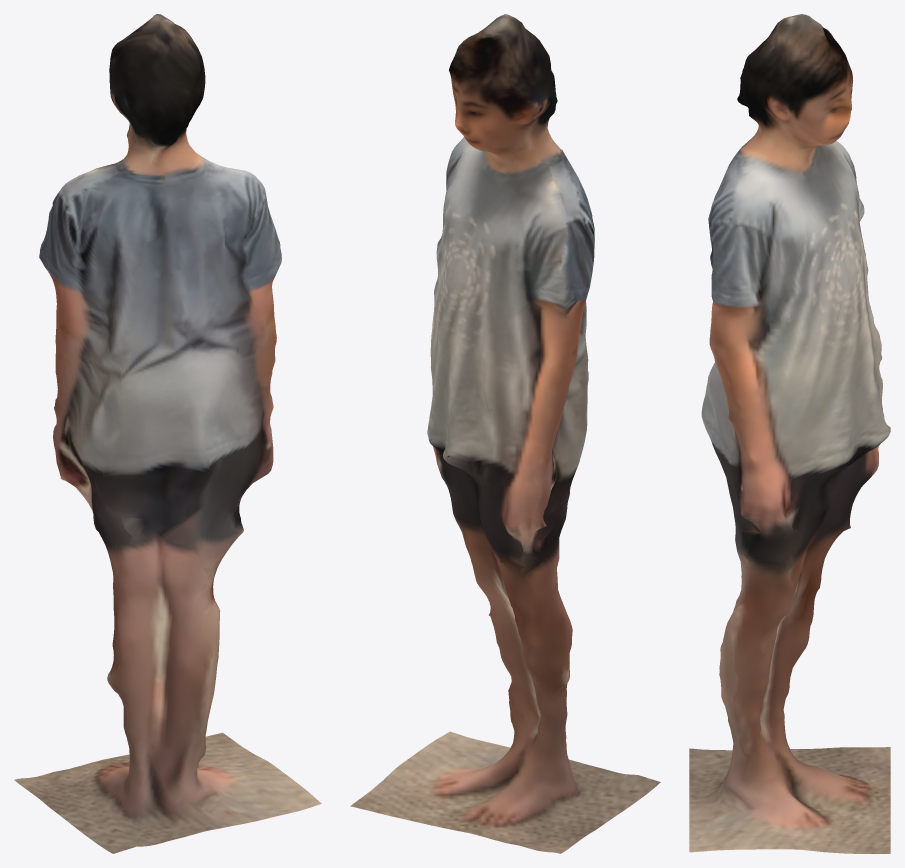
The model's file is nonkus.glb.
3 views of the same model, side by side, from view 1: azimuth 30°, elevation 25°; view 2: azimuth 150°, elevation 25°; view 3: azimuth 270°, elevation 25° (orthographic).
Visible parts, largest first — view 1: Object_2; view 2: Object_2; view 3: Object_2.
Part boxes in pixels (x1,y1,x2,y2): Object_2: (14,14,321,853); Object_2: (350,14,660,853); Object_2: (689,14,890,853).
Bounding box in the file's own units: 0.4358 × 1.55 × 0.3588.
Materials: 1 (1 with a texture image).
